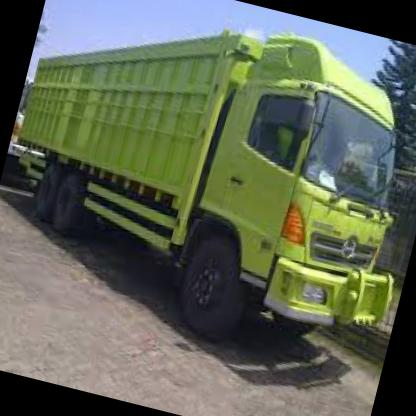truck: (168, 53, 416, 378)
